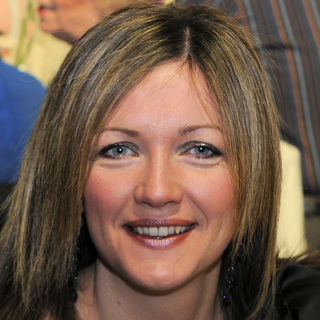eye: (175, 138, 223, 166), (94, 141, 145, 164)
